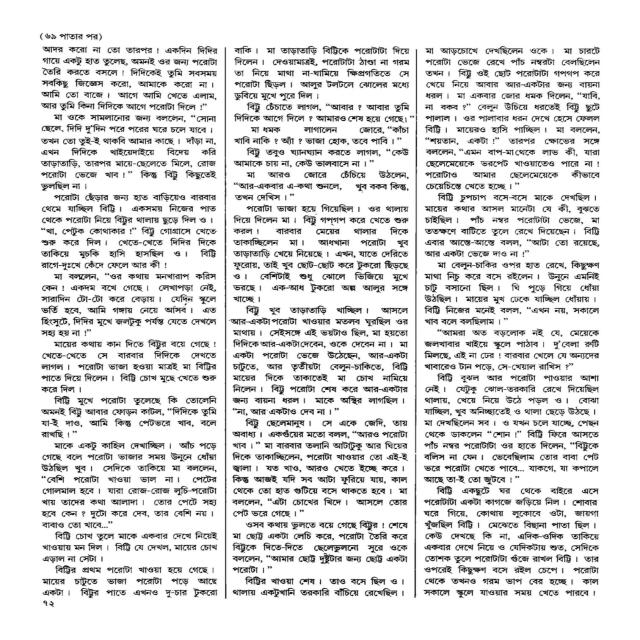page number: (42, 600, 55, 609)
paragraph: (423, 45, 602, 191), (229, 304, 410, 418), (421, 485, 601, 599), (422, 372, 601, 485), (230, 417, 411, 519), (231, 202, 411, 304), (40, 439, 220, 530), (40, 191, 219, 272), (38, 113, 218, 193), (38, 270, 219, 339), (39, 44, 221, 112), (422, 191, 602, 259), (423, 259, 601, 327), (233, 44, 411, 101), (39, 338, 218, 394), (230, 519, 410, 574), (39, 394, 220, 440), (423, 327, 601, 372), (41, 564, 219, 601), (41, 531, 221, 564), (232, 169, 411, 202), (229, 574, 407, 598), (232, 101, 415, 124), (232, 124, 411, 147), (231, 147, 410, 169), (39, 31, 105, 43)
